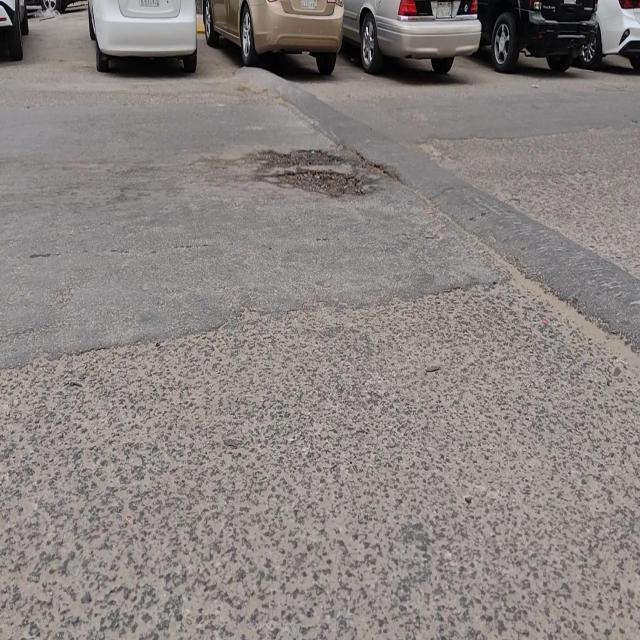Pothole: (278, 172, 368, 197), (254, 148, 343, 169)
Unmarked Bump: (241, 69, 640, 349)
